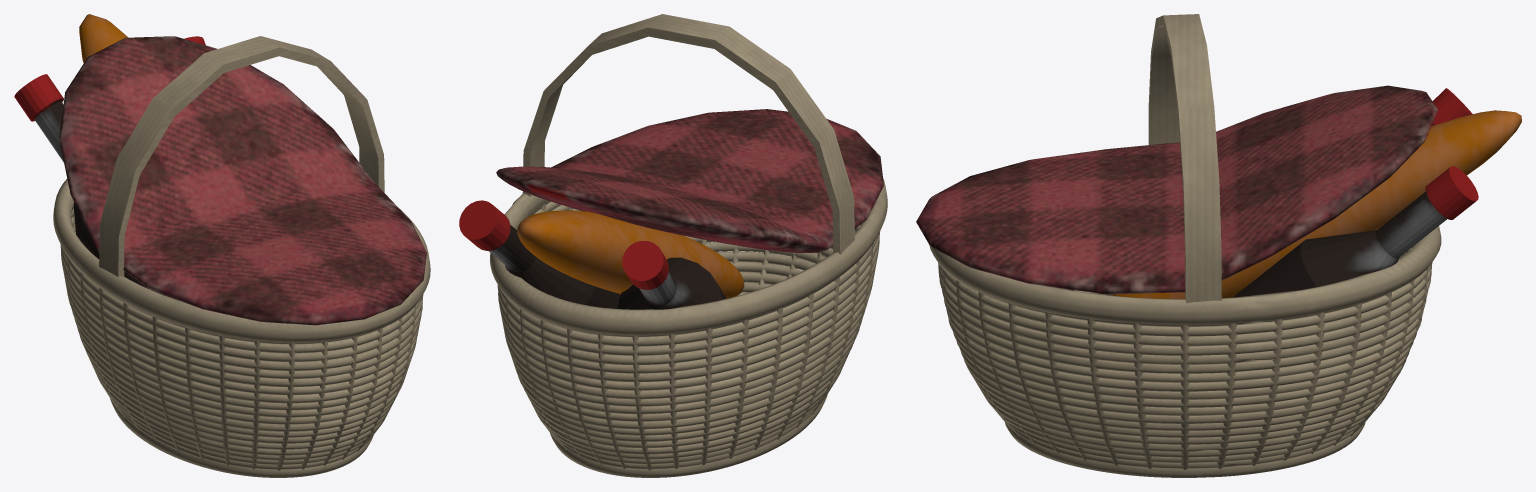
The model's file is Picnic.fbx.
3 views of the same model, side by side, from view 1: azimuth 30°, elevation 25°; view 2: azimuth 150°, elevation 25°; view 3: azimuth 270°, elevation 25° (orthographic). The views are drawn at different scales.
Visible parts, largest first — view 1: Picnic1; view 2: Picnic1; view 3: Picnic1.
Boxes of the visible parts, x1,y1,x2,y2 form: Picnic1: (14, 14, 430, 477); Picnic1: (459, 14, 887, 477); Picnic1: (916, 14, 1521, 477).
Bounding box in the file's own units: 3.21 × 3.82 × 5.29.
